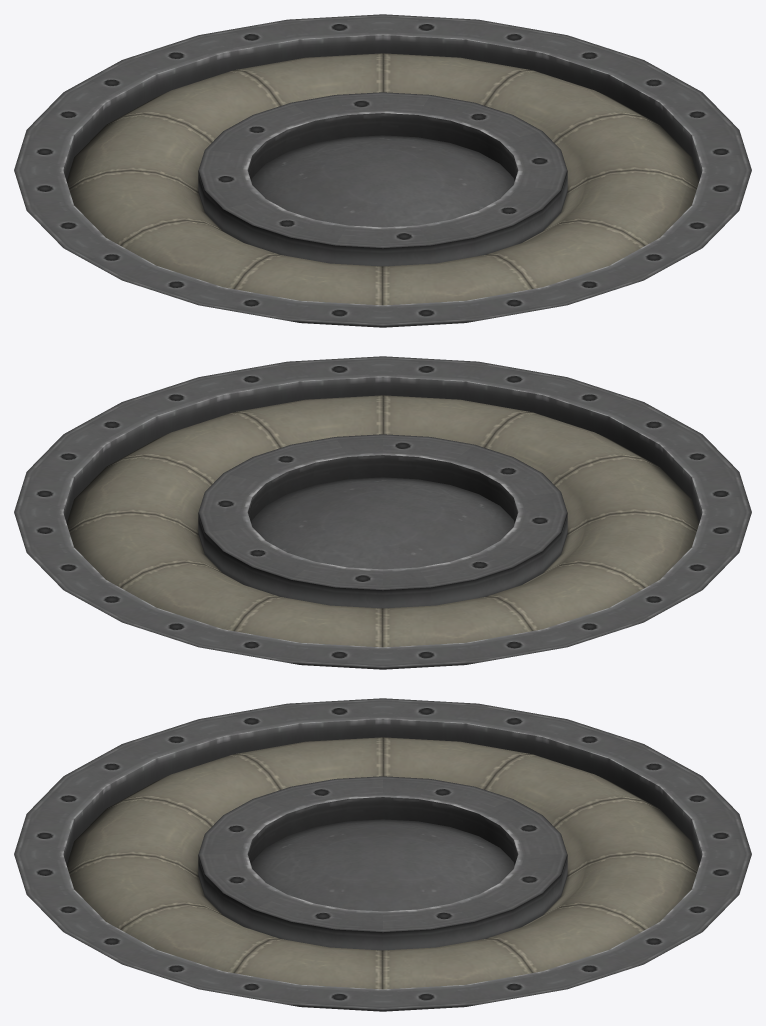
The model's file is end_basic_s1p5.obj.
3 views of the same model, one above another, from view 1: azimuth 30°, elevation 25°; view 2: azimuth 150°, elevation 25°; view 3: azimuth 270°, elevation 25° (orthographic).
Parts seen in each view (by area): view 1: end; view 2: end; view 3: end.
Part boxes in pixels (x1,y1,x2,y2): end: (14, 14, 751, 327); end: (14, 356, 751, 669); end: (14, 698, 751, 1011).
Size of the model in its own units: 1.88 by 0.0625 by 1.88.
